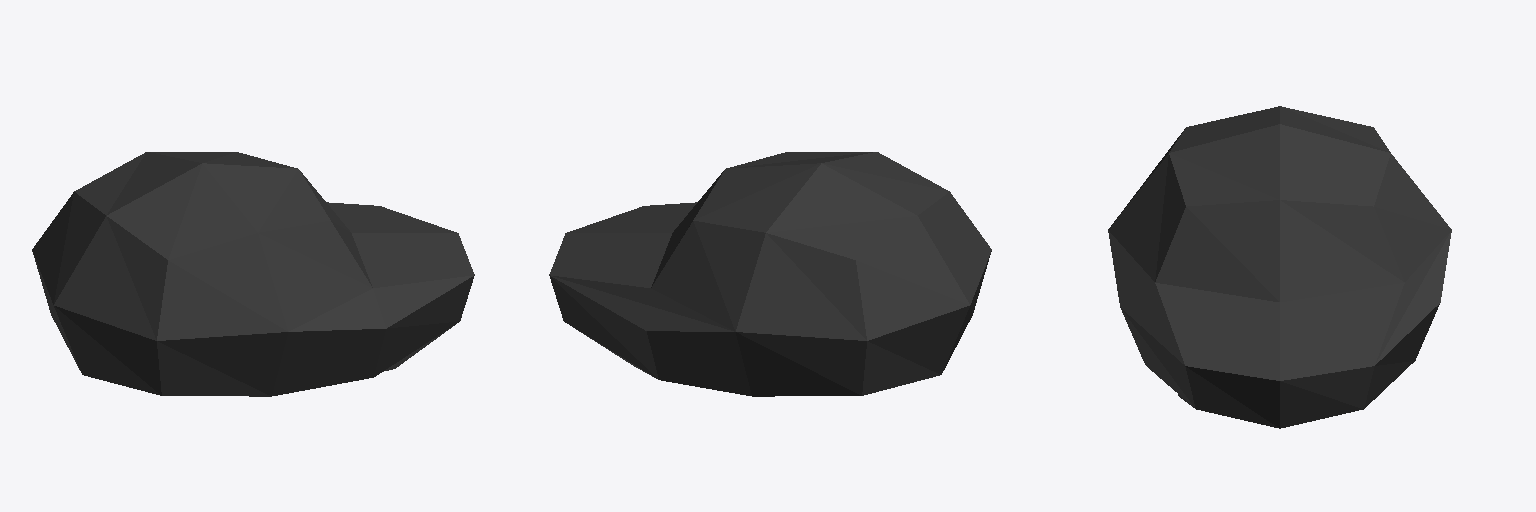
Rendered from stone2.obj.
3 renders of one model, left to right at view 1: azimuth 30°, elevation 25°; view 2: azimuth 150°, elevation 25°; view 3: azimuth 270°, elevation 25°, orthographic.
Parts seen in each view (by area): view 1: Cube; view 2: Cube; view 3: Cube.
Part boxes in pixels (left/top/right/bottom): Cube: left=32, top=152, right=474, bottom=396; Cube: left=549, top=152, right=991, bottom=396; Cube: left=1108, top=106, right=1451, bottom=428.
Bounding box in the file's own units: 3.82 × 1.91 × 2.81.